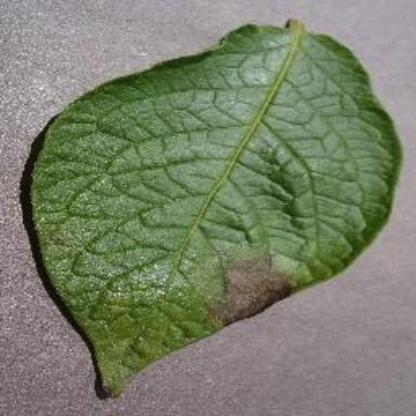Late-Blight: (24, 17, 404, 397)
